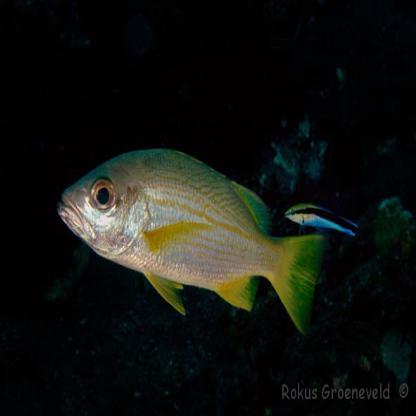Lutjanidae -Snappers-: (53, 138, 335, 348)
